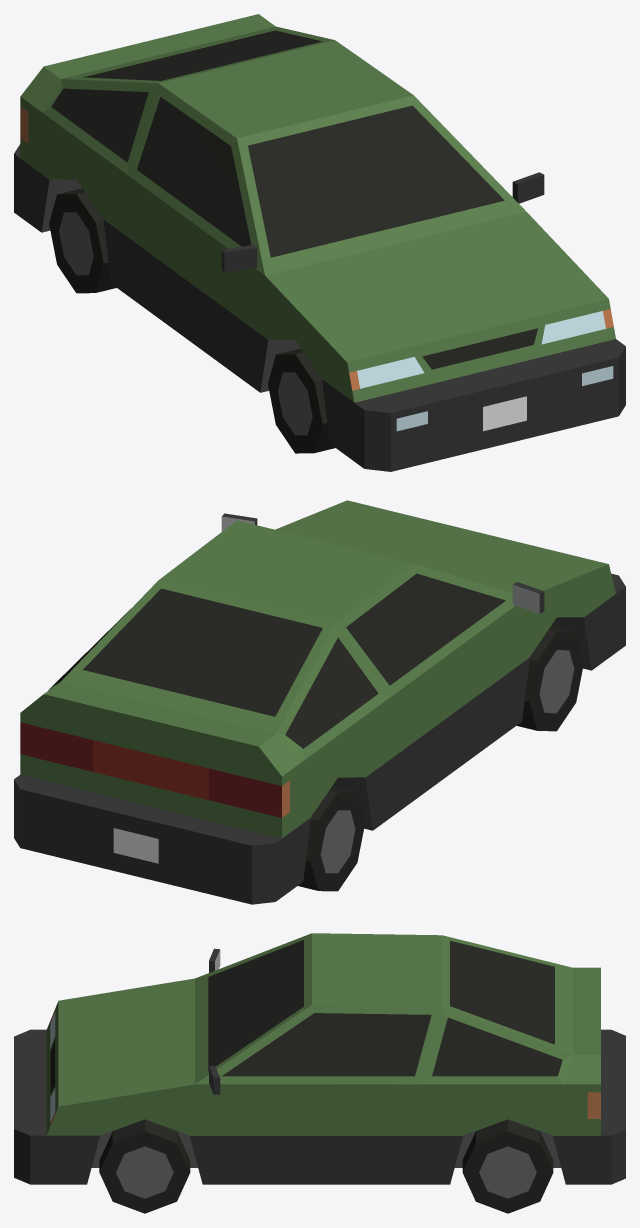
File: Veh_Coupe_01_Green.glb
3 views of the same model, one above another, from view 1: azimuth 30°, elevation 25°; view 2: azimuth 150°, elevation 25°; view 3: azimuth 270°, elevation 25° (orthographic). The views are drawn at different scales.
Parts seen in each view (by area): view 1: Coupe_01_Green, Wheel_FR, Wheel_RR; view 2: Coupe_01_Green, Wheel_RR, Wheel_FR; view 3: Coupe_01_Green, Wheel_RL, Wheel_FL.
Part boxes in pixels (bbox=[...]): Coupe_01_Green: bbox=[14, 14, 625, 471]; Wheel_FR: bbox=[268, 348, 334, 453]; Wheel_RR: bbox=[49, 188, 116, 293]; Coupe_01_Green: bbox=[14, 500, 625, 904]; Wheel_RR: bbox=[298, 786, 365, 891]; Wheel_FR: bbox=[516, 626, 584, 731]; Coupe_01_Green: bbox=[14, 933, 625, 1184]; Wheel_RL: bbox=[462, 1119, 553, 1213]; Wheel_FL: bbox=[99, 1119, 190, 1213].
Bounding box in the file's own units: 1.18 × 0.8117 × 2.35.
1 material, 1 textured.
